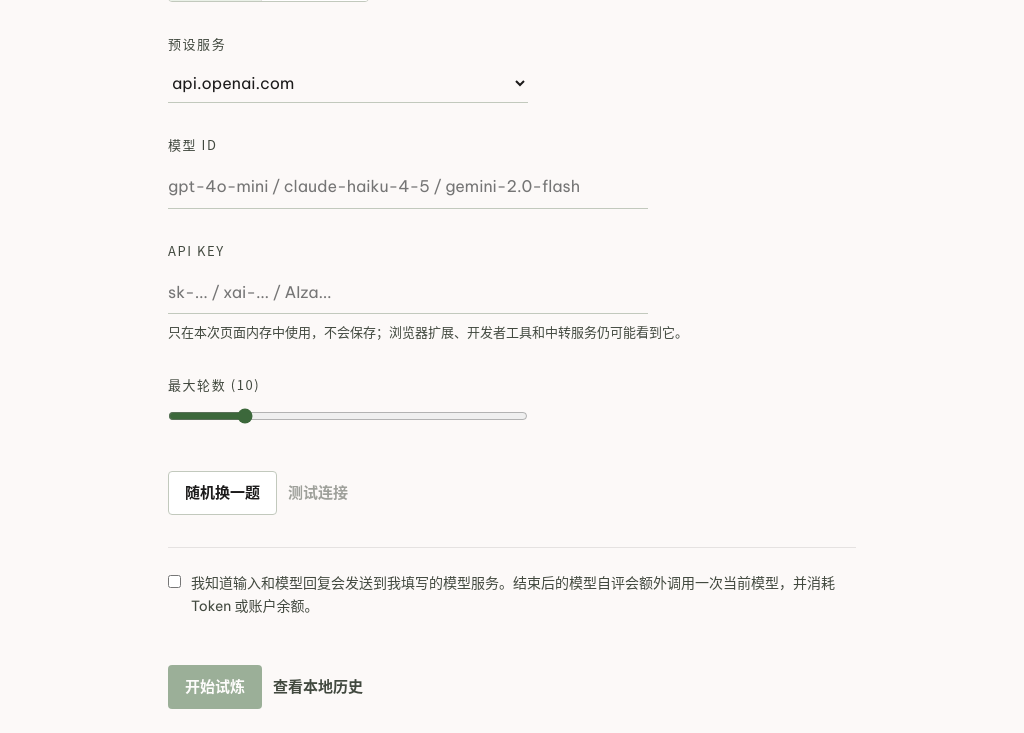
AI 试炼场页面 · 注入非空题池 › 选题后展示题目预览与验收条件
The width and height of the screenshot is (1024, 733).
(page scrolled)
Click the button "随机换一题" at (222, 493), box x1=168 y1=471 x2=277 y2=515
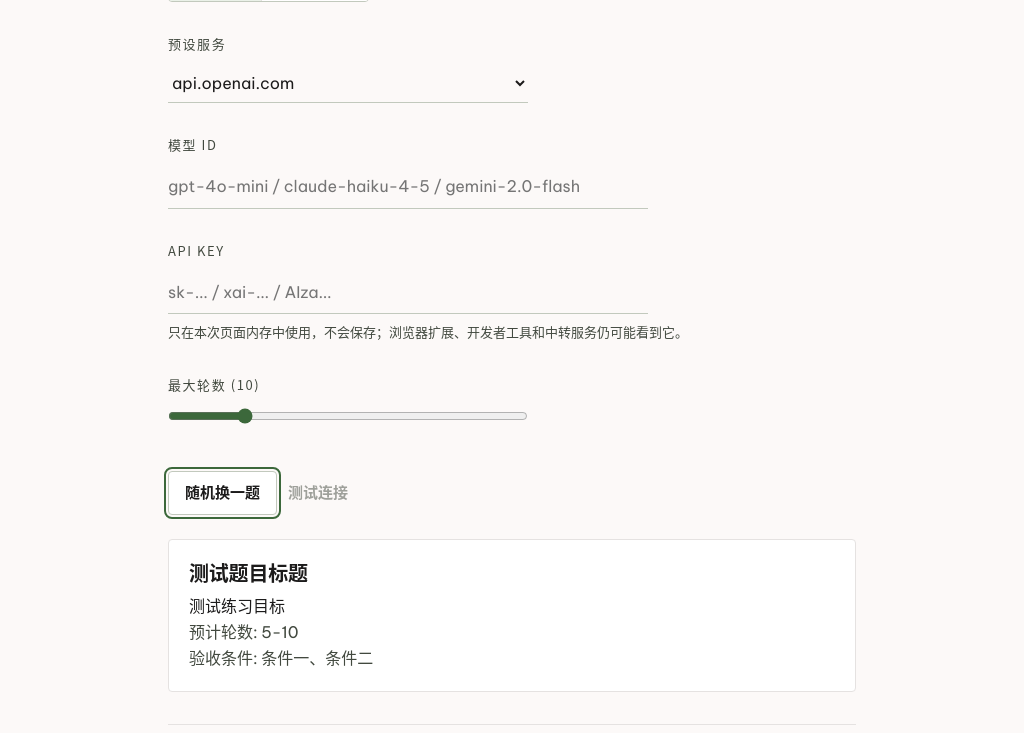
Result: the heading "测试题目标题" is shown at x1=189 y1=558 x2=308 y2=587
Result: the text "验收条件: 条件一、条件二" is shown at x1=189 y1=648 x2=373 y2=668
